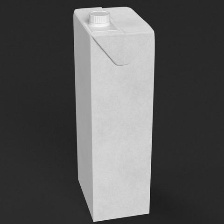carton: (69, 3, 163, 223)
